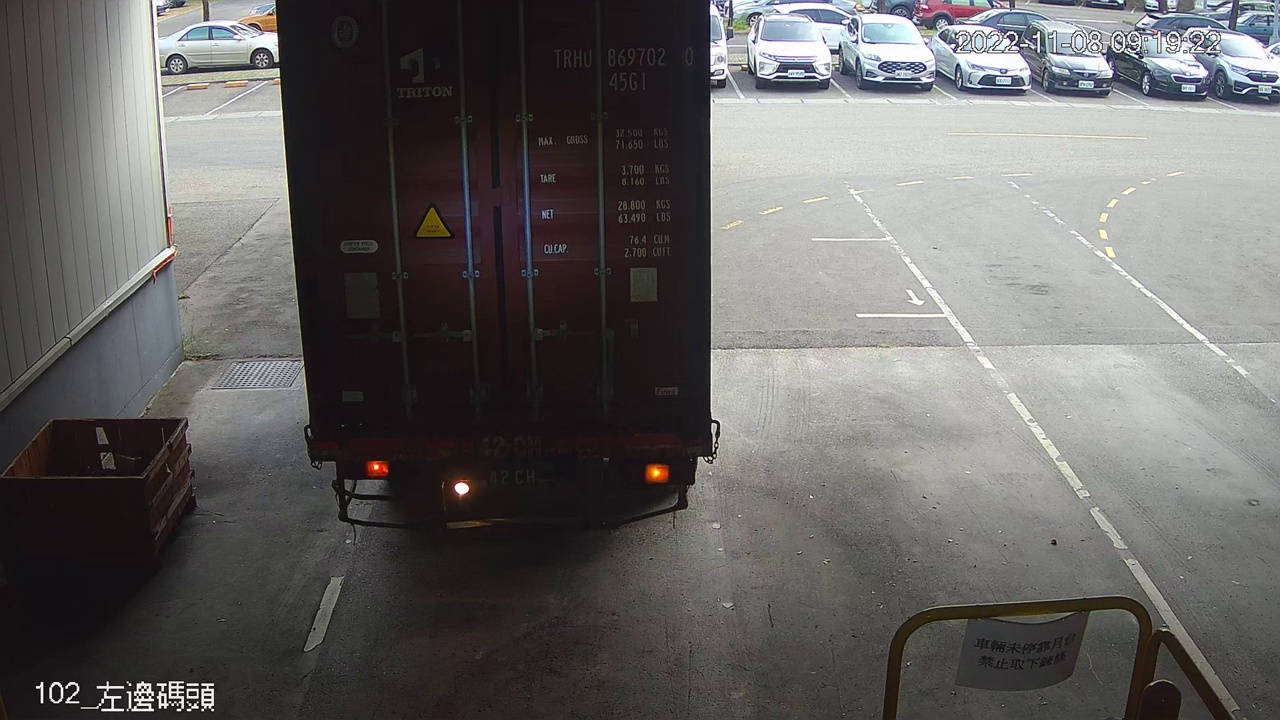container: (548, 36, 700, 102)
